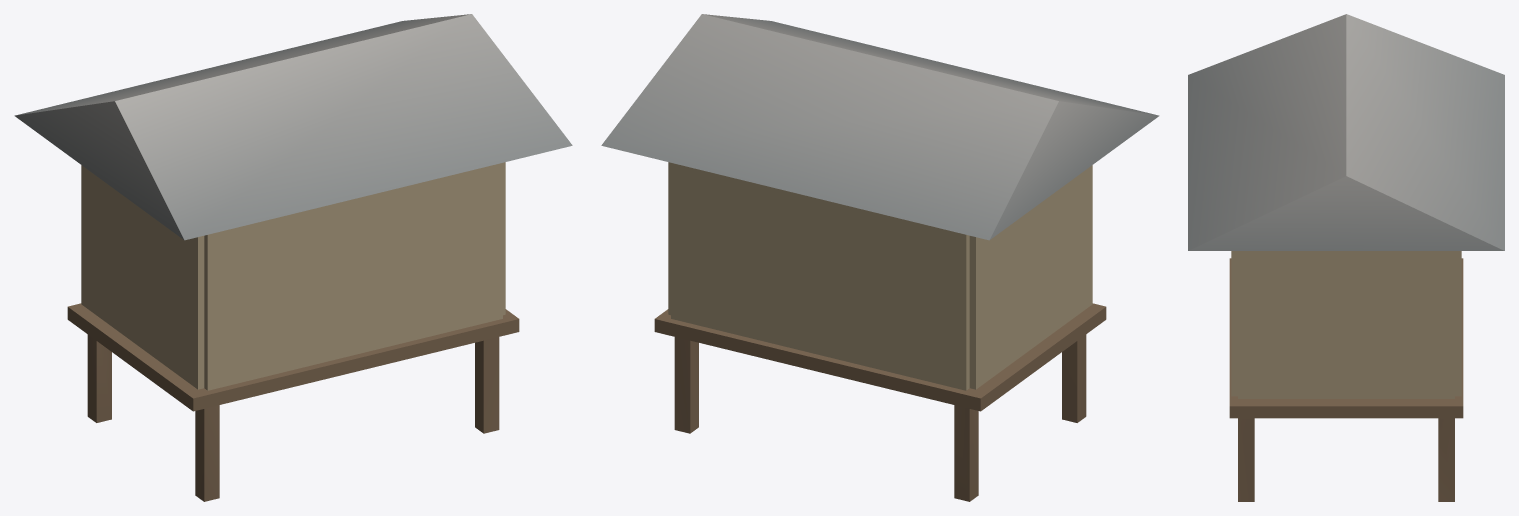
File: chicken_coop_lod1.glb
3 views of the same model, side by side, from view 1: azimuth 30°, elevation 25°; view 2: azimuth 150°, elevation 25°; view 3: azimuth 270°, elevation 25° (orthographic). The views are drawn at different scales.
Parts seen in each view (by area): view 1: chicken_coop_lod1; view 2: chicken_coop_lod1; view 3: chicken_coop_lod1.
Boxes of the visible parts, <box> form: chicken_coop_lod1: <box>14,14,572,501</box>; chicken_coop_lod1: <box>601,14,1159,501</box>; chicken_coop_lod1: <box>1188,14,1504,501</box>.
Bounding box in the file's own units: 2.5 × 2.25 × 1.9.
